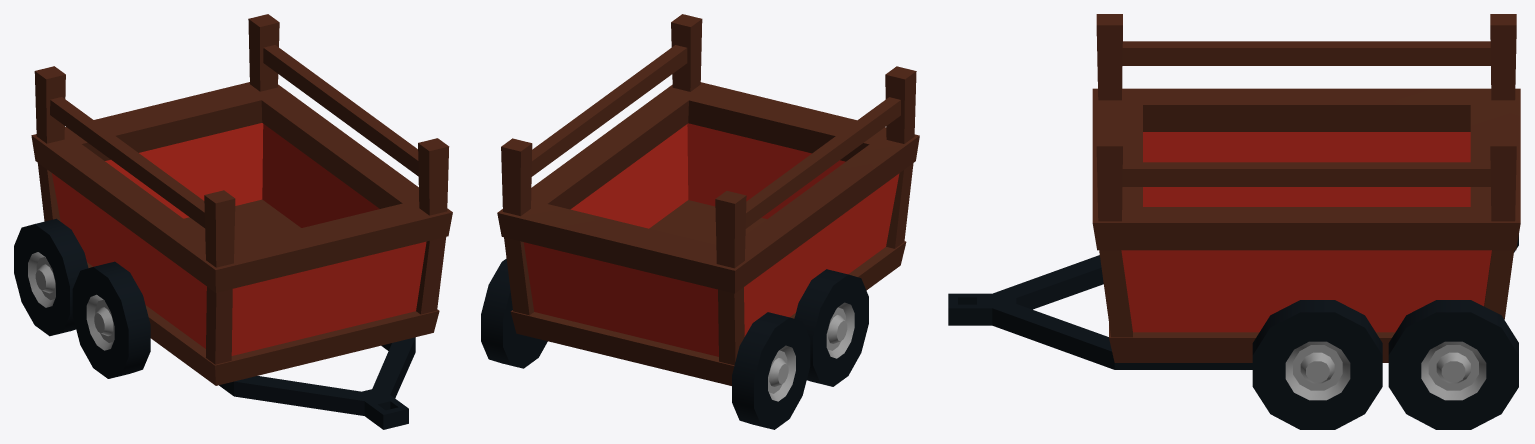
Rendered from Trailer_1_1.fbx.
3 renders of one model, left to right at view 1: azimuth 30°, elevation 25°; view 2: azimuth 150°, elevation 25°; view 3: azimuth 270°, elevation 25°, orthographic. The views are drawn at different scales.
Parts seen in each view (by area): view 1: Trailer_1_1; view 2: Trailer_1_1; view 3: Trailer_1_1.
Boxes of the visible parts, box(x1,y1,x2,y2) form: Trailer_1_1: box(14, 14, 452, 429); Trailer_1_1: box(481, 14, 919, 429); Trailer_1_1: box(948, 14, 1520, 429).
Bounding box in the file's own units: 61.72 × 50.48 × 95.94.
